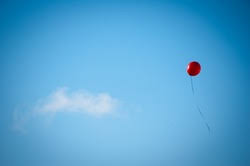Balloon: (185, 61, 200, 76)
